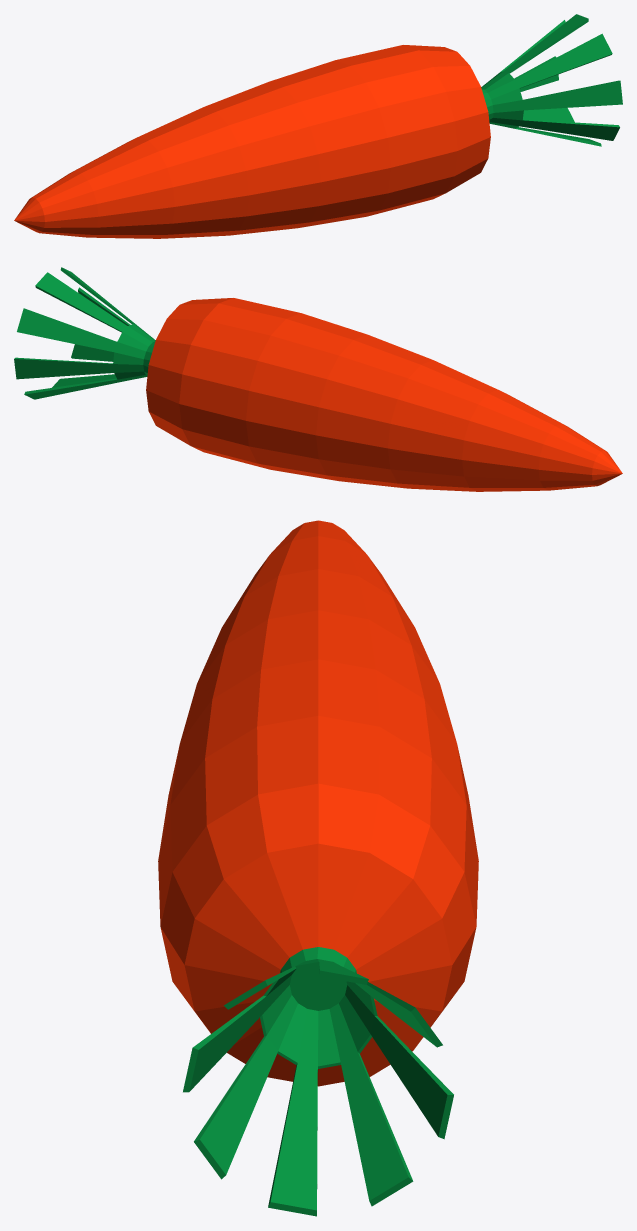
The model's file is Carrot.fbx.
3 renders of one model, top to bottom at view 1: azimuth 30°, elevation 25°; view 2: azimuth 150°, elevation 25°; view 3: azimuth 270°, elevation 25°, orthographic. The views are drawn at different scales.
Visible parts, largest first — view 1: Carrot; view 2: Carrot; view 3: Carrot.
Part boxes in pixels (x1,y1,x2,y2): Carrot: (14,14,622,238); Carrot: (14,267,622,491); Carrot: (158,520,478,1216).
Bounding box in the file's own units: 0.6211 × 0.15 × 0.15.
